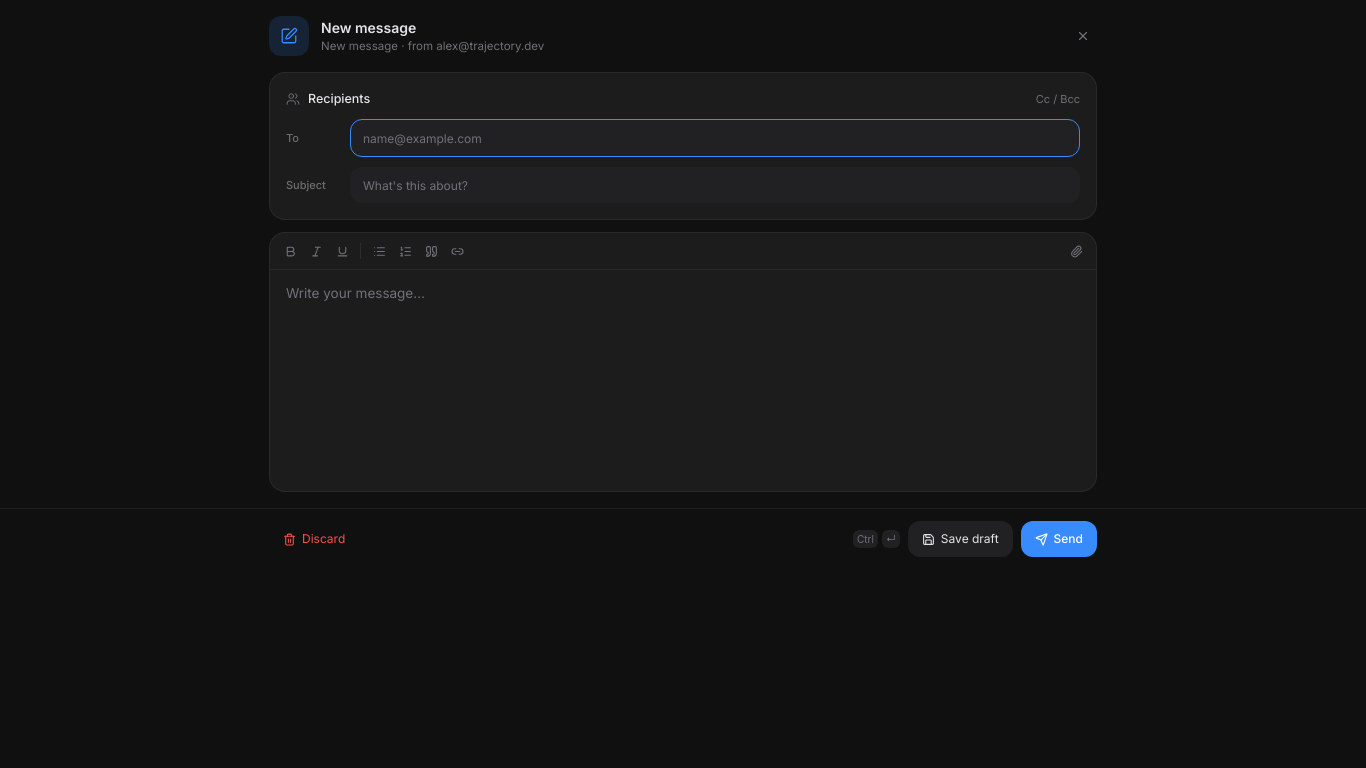
Test: Composer › adds recipient chips and validates before sending
Click the button "Send".
click(1059, 539)  # box left=1021, top=521, right=1097, bottom=557
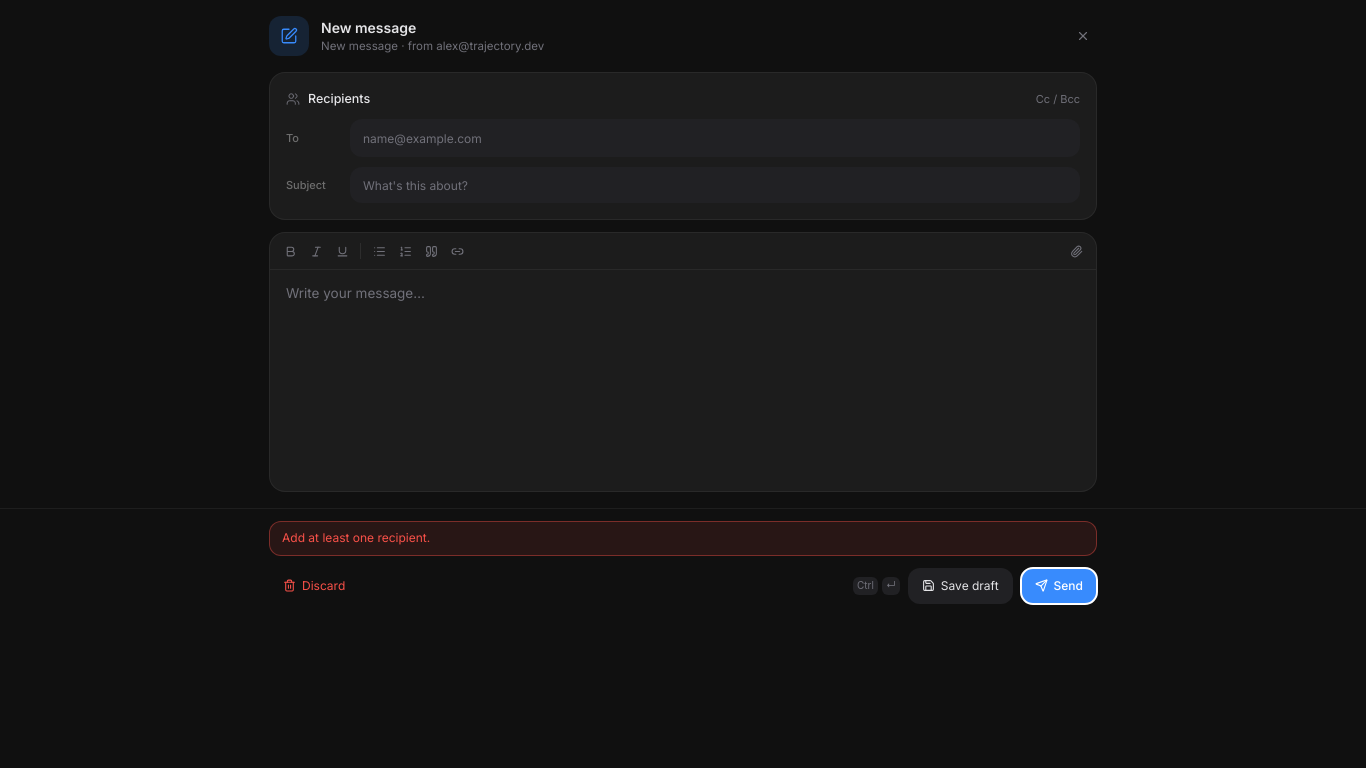
Expected: the message reads "Add at least one recipient.", left=282, top=530, right=430, bottom=545
Type "broken" into the field named "To".
click(715, 138); type("broken")  # box left=357, top=124, right=1073, bottom=152
Then press Enter
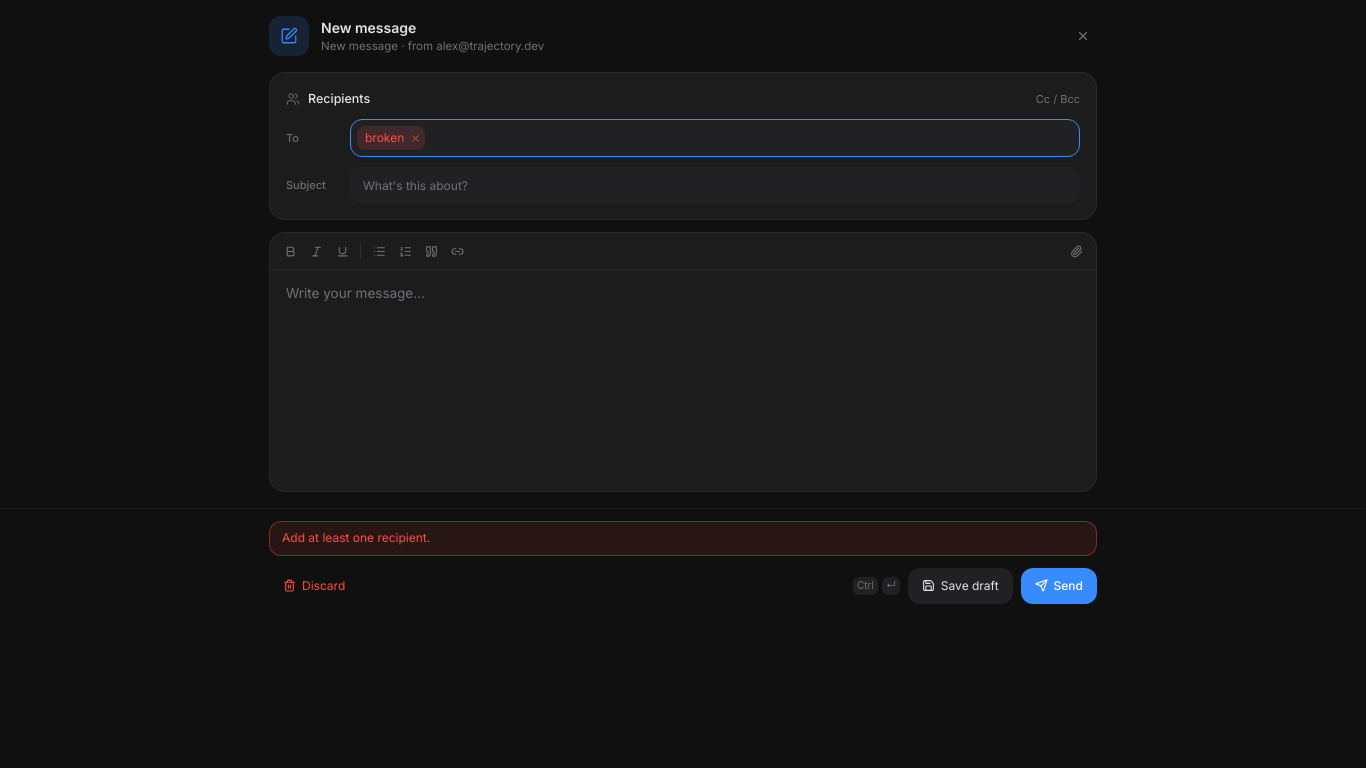
Click the button "Send".
click(1059, 586)  # box left=1021, top=568, right=1097, bottom=604
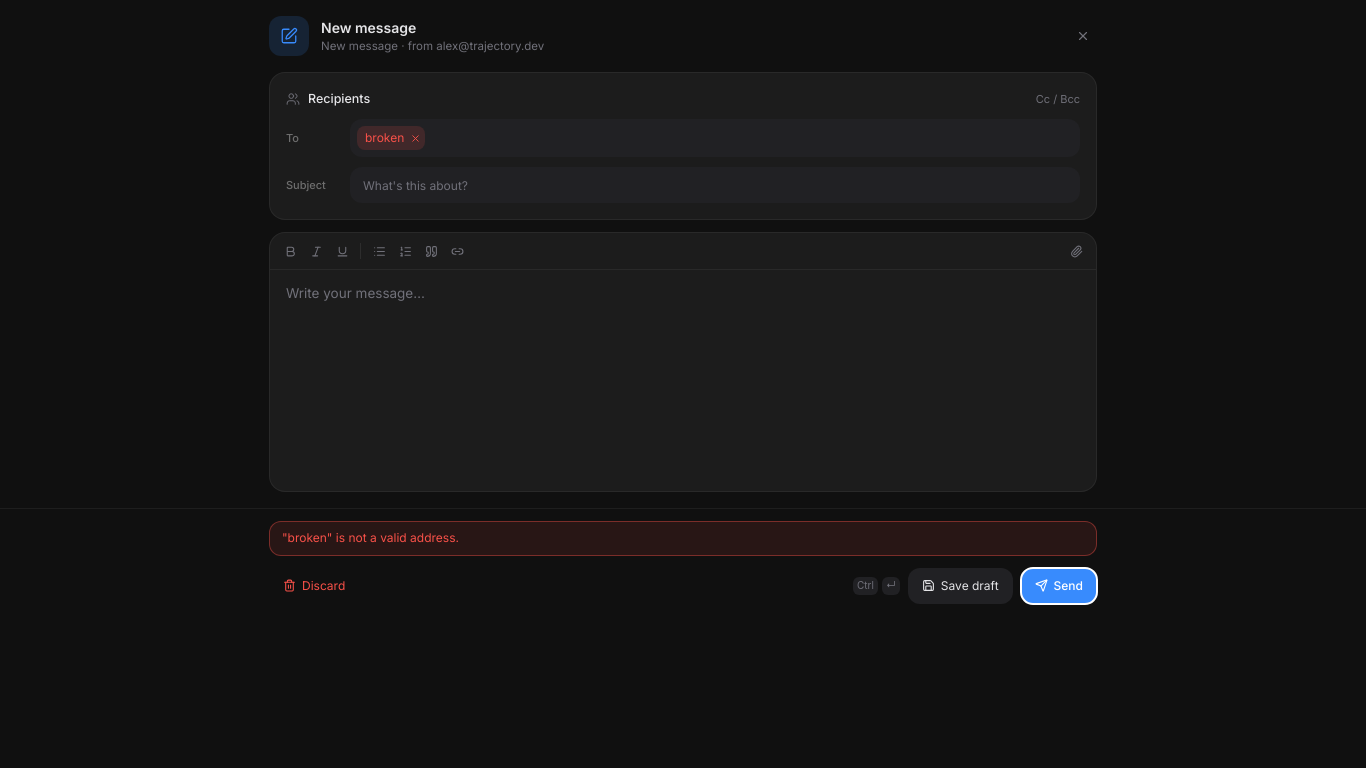
Expected: the message reads "\"broken\" is not a valid address.", left=282, top=530, right=459, bottom=545
Click the button named "Remove broken".
click(416, 138)  # box left=408, top=130, right=423, bottom=146
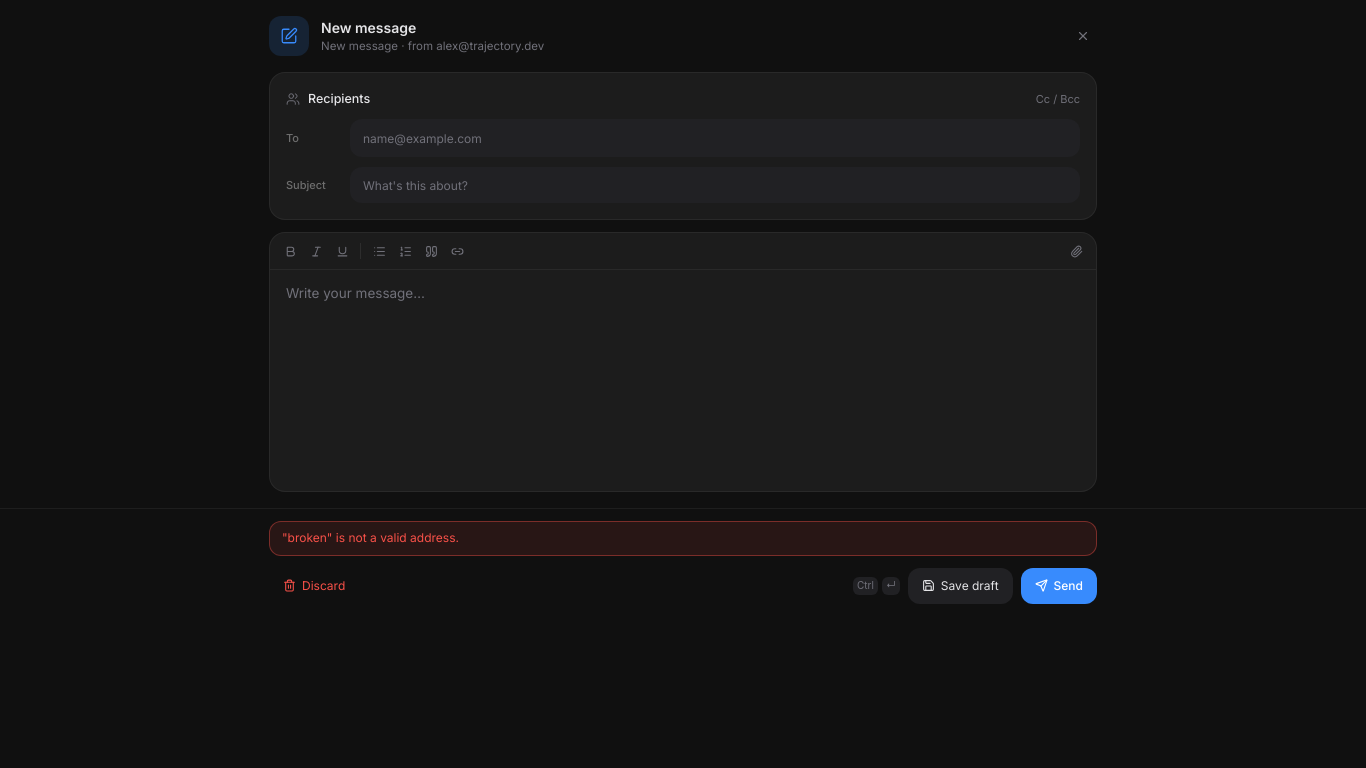
Expected: the element with test id "recipient-chip" is gone
